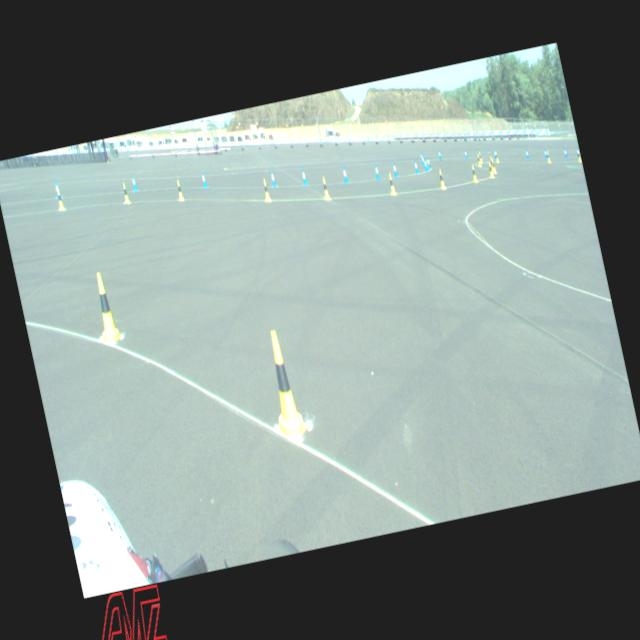blue_cone: (52, 178, 62, 199), (198, 168, 208, 188), (129, 172, 138, 192), (268, 168, 277, 188), (300, 166, 308, 186), (372, 162, 380, 181), (391, 160, 399, 178), (341, 164, 348, 184), (424, 154, 432, 170), (412, 158, 419, 174), (422, 156, 428, 172), (420, 153, 426, 166), (436, 148, 442, 160), (524, 148, 530, 160), (562, 146, 568, 158), (574, 146, 580, 158), (462, 148, 468, 159), (418, 152, 424, 162), (492, 148, 496, 160), (543, 147, 547, 159)
yellow_cone: (254, 326, 312, 449), (86, 268, 123, 346), (319, 174, 331, 201), (54, 186, 66, 212), (260, 176, 272, 202), (118, 180, 130, 205), (174, 178, 185, 202), (435, 167, 446, 190), (386, 171, 396, 196), (468, 162, 478, 183), (486, 160, 495, 179), (489, 156, 496, 174), (544, 149, 552, 164), (474, 152, 482, 167), (488, 155, 494, 170), (493, 150, 499, 163), (576, 149, 582, 162), (478, 150, 482, 163)
